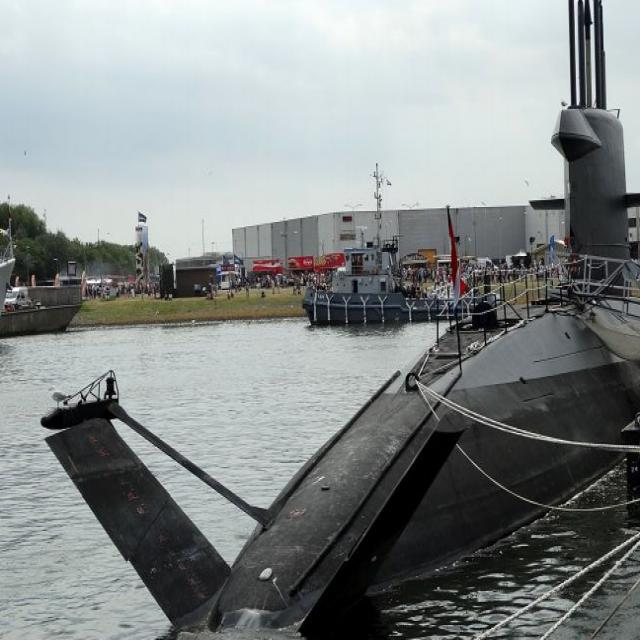submarine: (45, 104, 640, 640)
